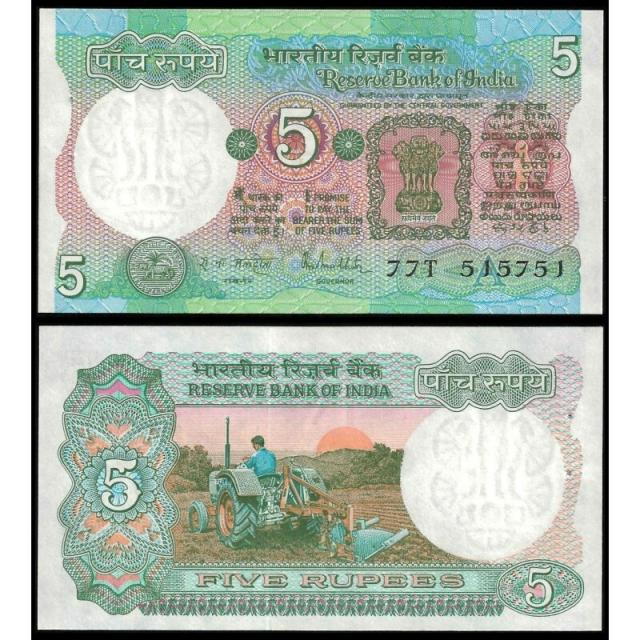5IndianRupees: (37, 324, 603, 631)
